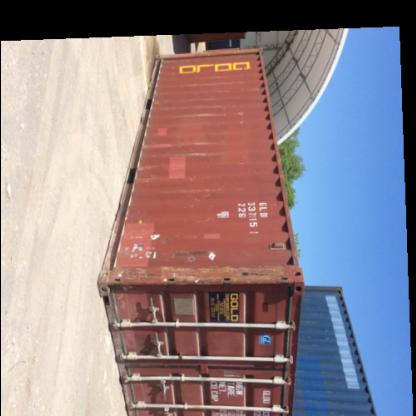Damage: (108, 268, 294, 292), (118, 214, 160, 265), (162, 184, 226, 200), (166, 249, 216, 263), (180, 110, 228, 122), (172, 152, 228, 162), (202, 208, 236, 224), (177, 80, 231, 90), (185, 140, 224, 148), (145, 143, 173, 152), (238, 108, 250, 126)
